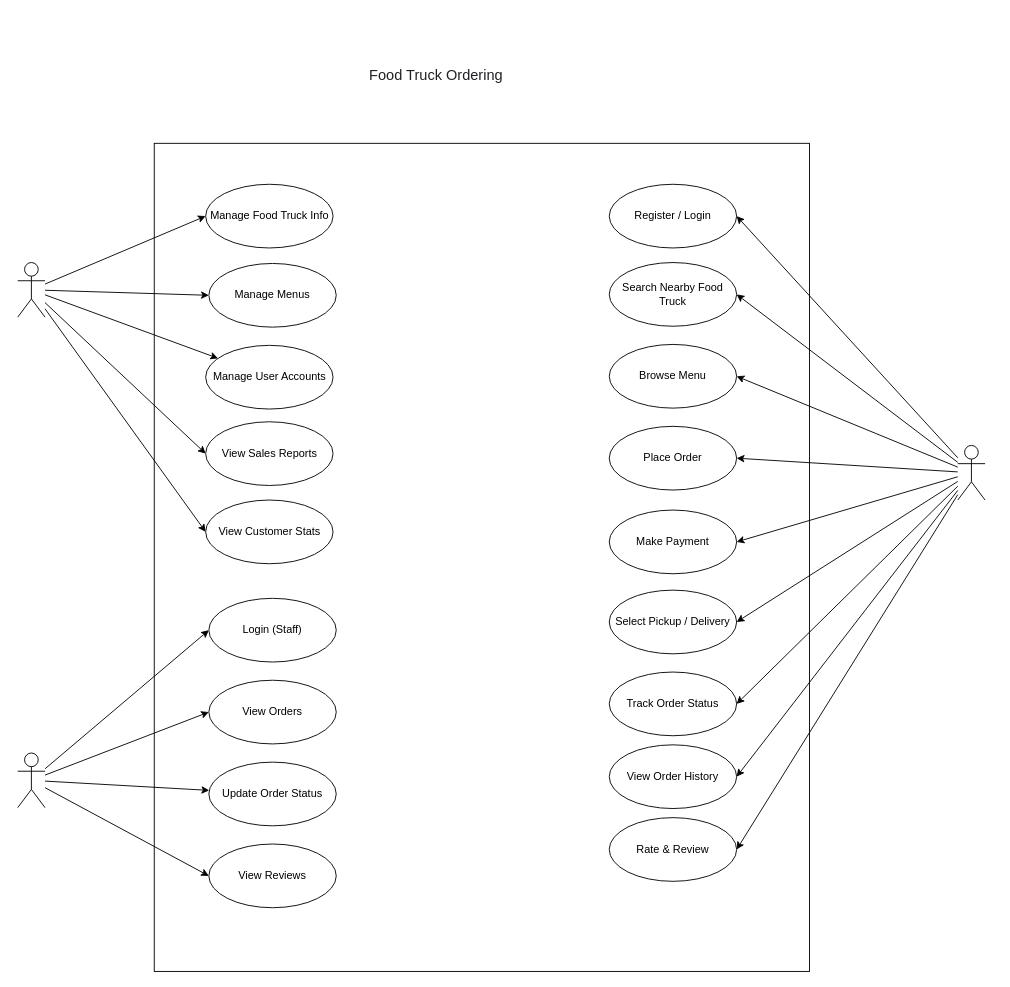
This 1010x987 diagram has some shape labels left out. The centre of each missing label's shape, as x and y in pixels:
"Admin" goes at (x=31, y=289).
"Customer" goes at (x=971, y=472).
"Staff" goes at (x=31, y=780).
